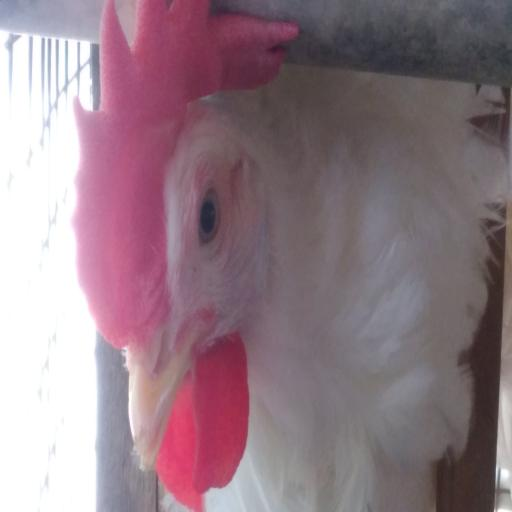healthy: (100, 74, 274, 430)
